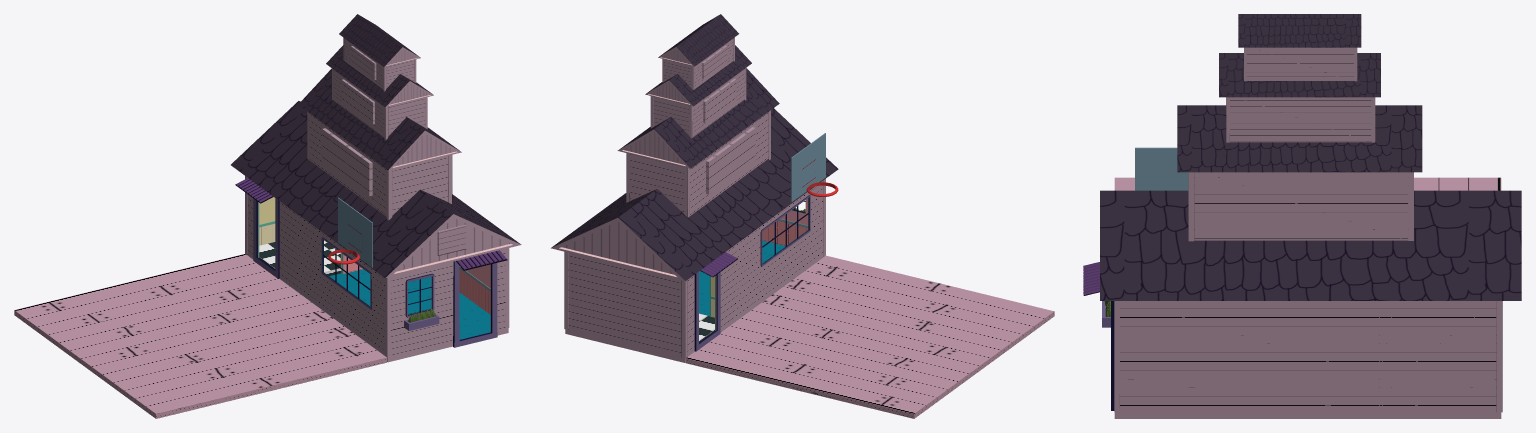
The model's file is casa.obj.
3 renders of one model, left to right at view 1: azimuth 30°, elevation 25°; view 2: azimuth 150°, elevation 25°; view 3: azimuth 270°, elevation 25°, orthographic. The views are drawn at different scales.
Parts seen in each view (by area): view 1: polySurface209; view 2: polySurface209; view 3: polySurface209.
Boxes of the visible parts, x1,y1,x2,y2 form: polySurface209: [14, 14, 521, 418]; polySurface209: [551, 14, 1054, 418]; polySurface209: [1083, 14, 1521, 418].
Size of the model in its own units: 37.01 by 26.29 by 28.63.
Materials: 20 (19 with a texture image).
